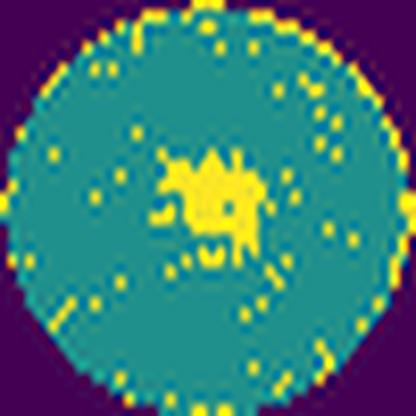Center: (155, 146, 267, 268)
